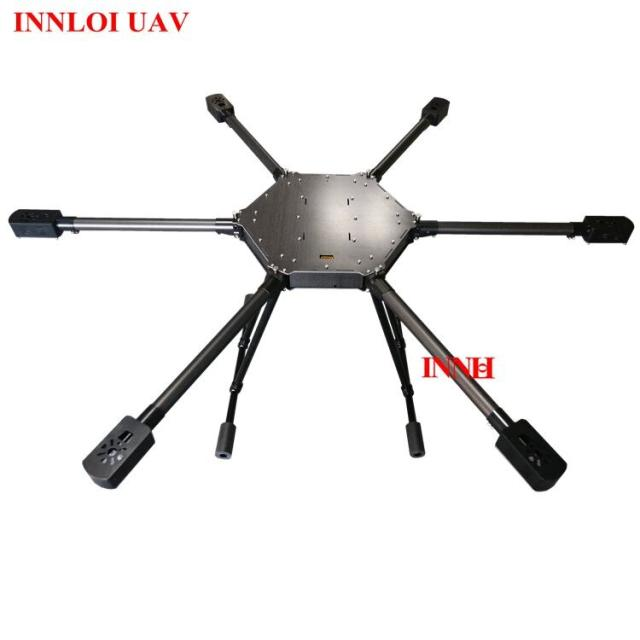drone: (0, 108, 640, 508)
